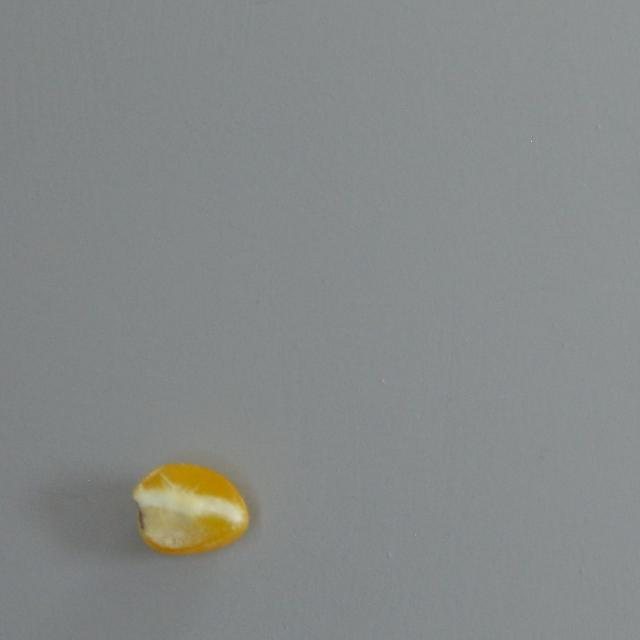punto_negro: (132, 460, 250, 556)
